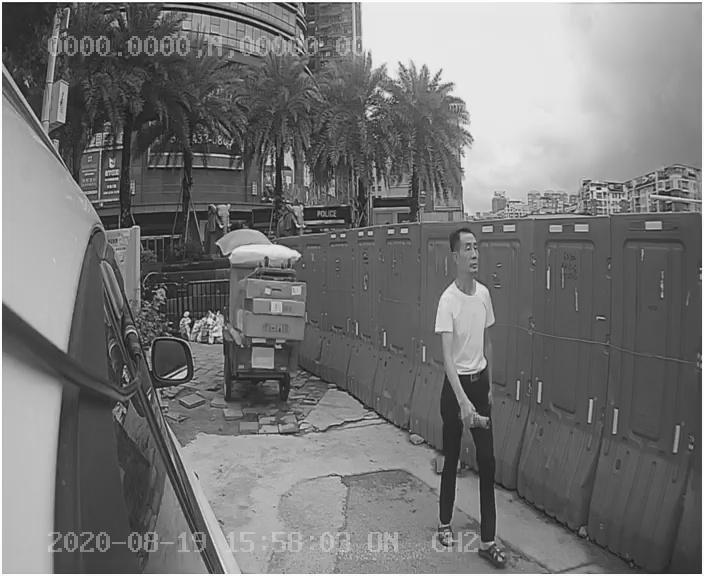person: (421, 228, 517, 531)
